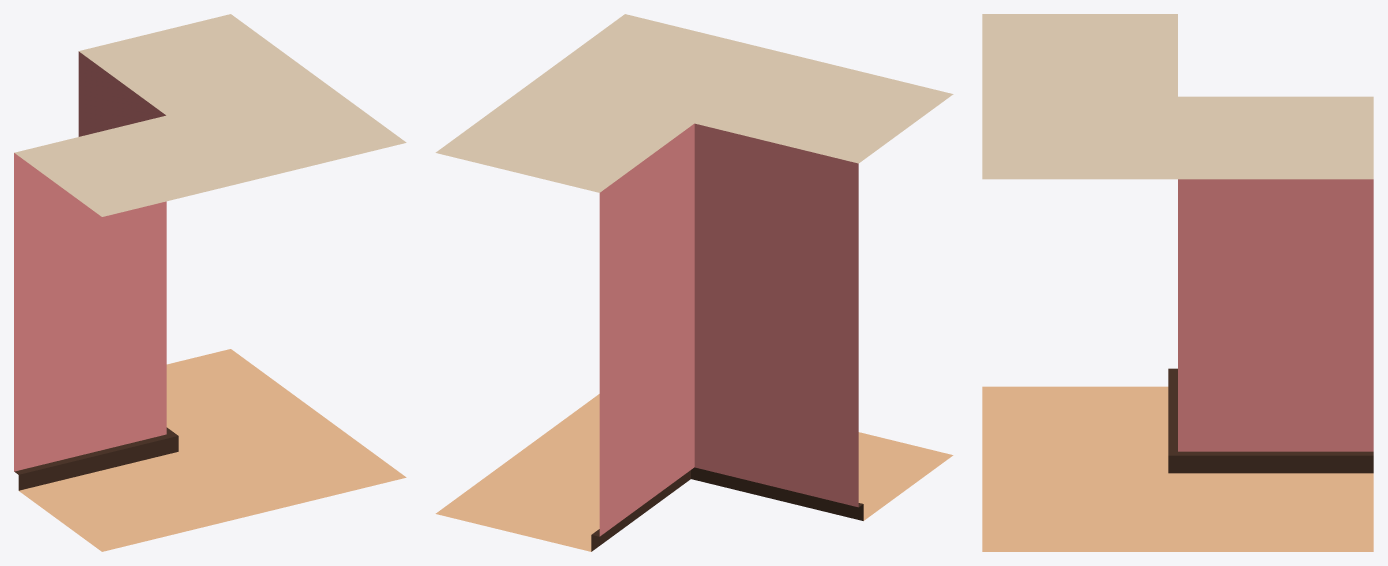
Rendered from Coin_Exterieur_4x4.fbx.
The picture shows the model from 3 angles, left to right: view 1: azimuth 30°, elevation 25°; view 2: azimuth 150°, elevation 25°; view 3: azimuth 270°, elevation 25°; orthographic projection. The views are drawn at different scales.
Parts seen in each view (by area): view 1: Coin_Exterieur_4x4; view 2: Coin_Exterieur_4x4; view 3: Coin_Exterieur_4x4.
Part boxes in pixels (x1=…): Coin_Exterieur_4x4: x1=14, y1=14, x2=406, y2=551; Coin_Exterieur_4x4: x1=435, y1=14, x2=953, y2=551; Coin_Exterieur_4x4: x1=982, y1=14, x2=1373, y2=551.
Size of the model in its own units: 2 by 2.1 by 2.
